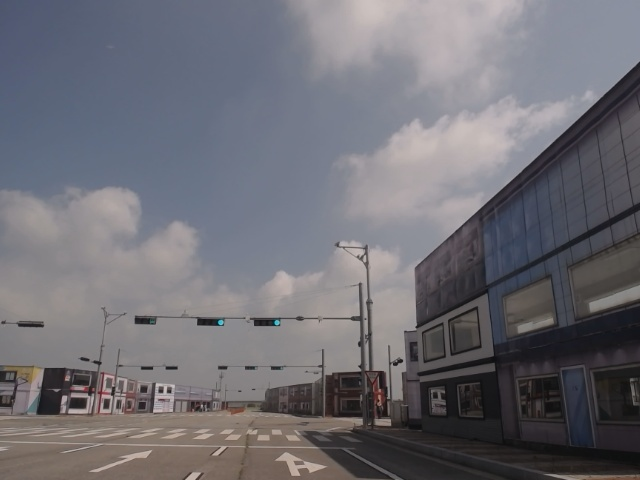straight_green_4: (197, 316, 226, 326), (253, 319, 281, 326)
